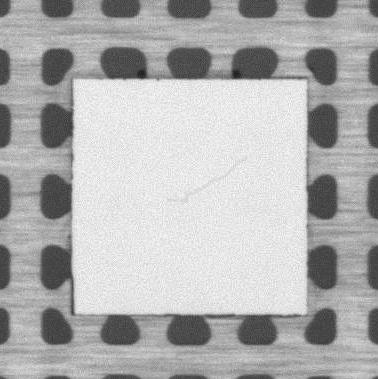DIE_CRACK: (168, 157, 246, 204)
